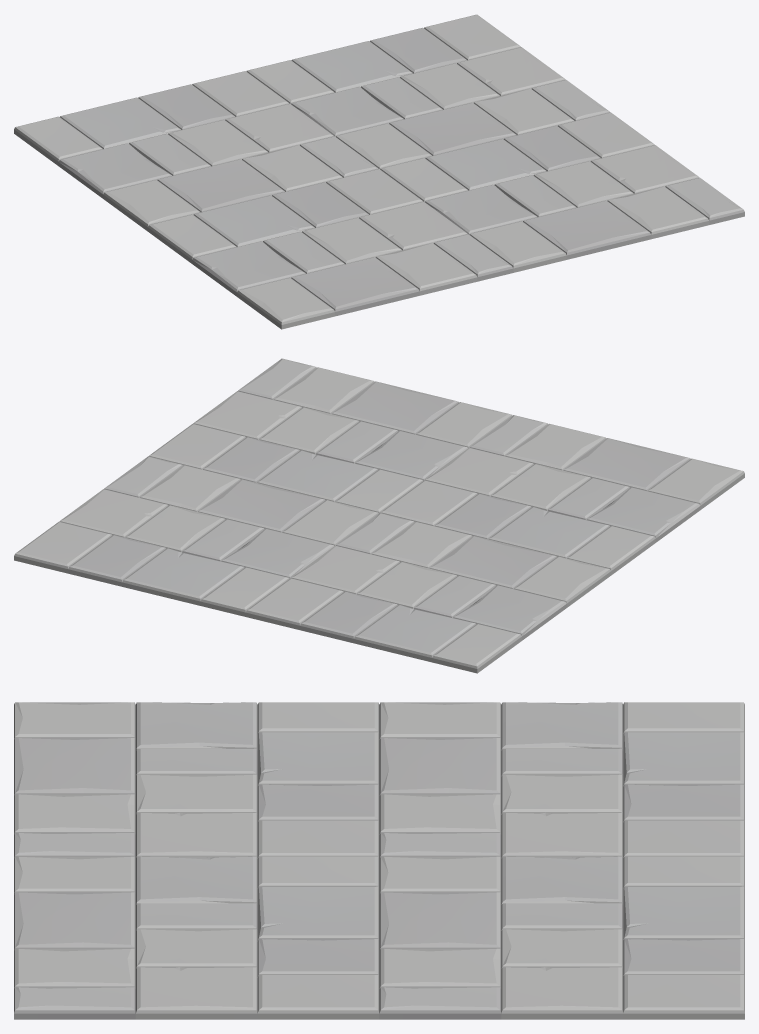
Rendered from floor-custom-1.fbx.
3 views of the same model, one above another, from view 1: azimuth 30°, elevation 25°; view 2: azimuth 150°, elevation 25°; view 3: azimuth 270°, elevation 25° (orthographic). The views are drawn at different scales.
Parts seen in each view (by area): view 1: Floor_1_1A; view 2: Floor_1_1A; view 3: Floor_1_1A.
Part boxes in pixels (left/top/right/bottom): Floor_1_1A: left=14, top=14, right=744, bottom=329; Floor_1_1A: left=14, top=358, right=744, bottom=673; Floor_1_1A: left=14, top=702, right=744, bottom=1019.
Size of the model in its own units: 800 by 12.71 by 800.
Materials: 1 (1 with a texture image).
